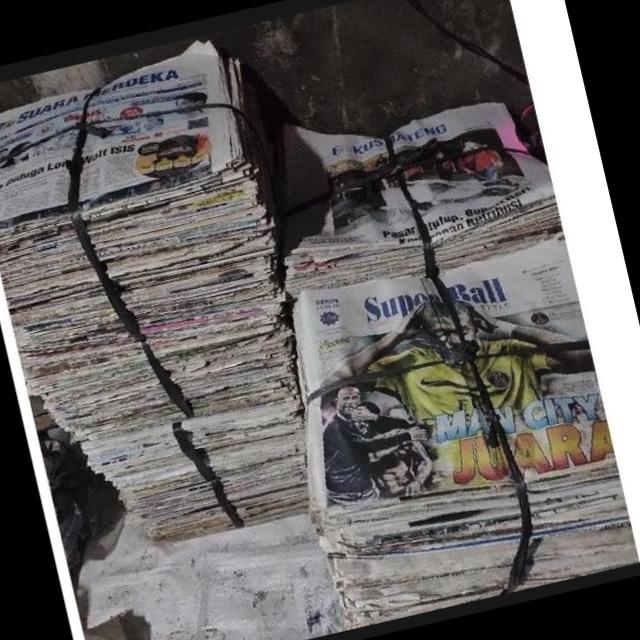Koran: (241, 90, 639, 632), (0, 47, 334, 568)
